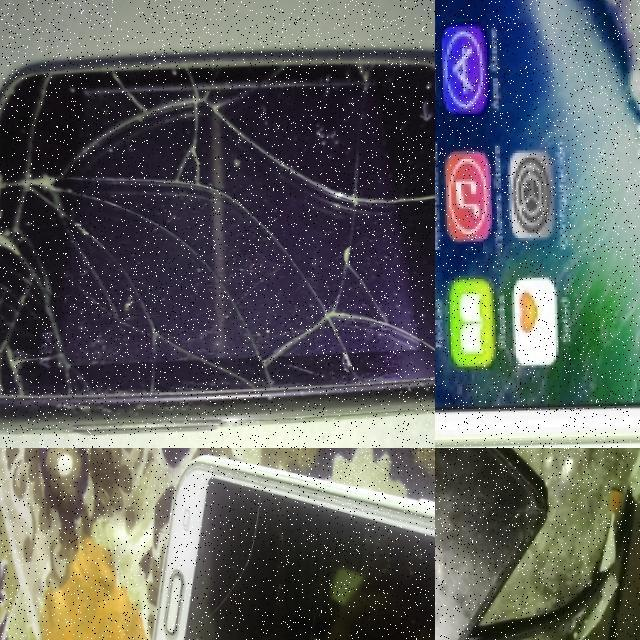screen crack: (0, 64, 435, 407), (176, 468, 412, 640), (495, 448, 555, 550)
